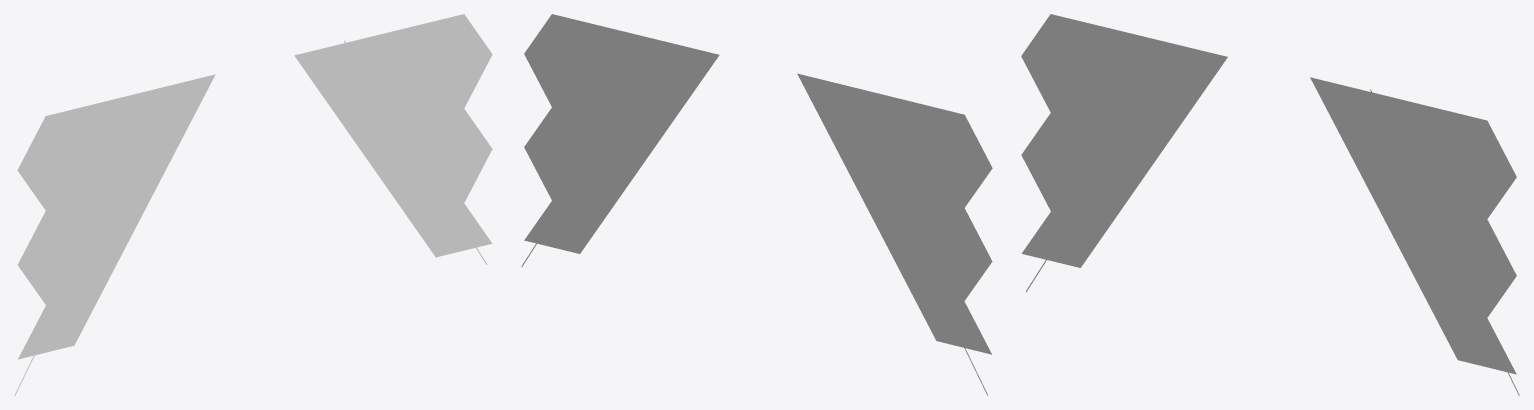
The model's file is Hold.fbx.
3 renders of one model, left to right at view 1: azimuth 30°, elevation 25°; view 2: azimuth 150°, elevation 25°; view 3: azimuth 330°, elevation 25°, orthographic. The views are drawn at different scales.
Visible parts, largest first — view 1: r02, r01; view 2: r02, r01, kaliepingmu (×2); view 3: r01, r02.
Boxes of the visible parts, box(x1,y1,x2,y2) form: r02: box(17, 74, 215, 359); r01: box(294, 14, 492, 257); r02: box(797, 73, 992, 354); r01: box(524, 14, 719, 253); kaliepingmu (×2): box(521, 46, 987, 395); r01: box(1310, 77, 1516, 374); r02: box(1021, 14, 1227, 267).
Bounding box in the file's own units: 0.9712 × 0.5396 × 0.014.
